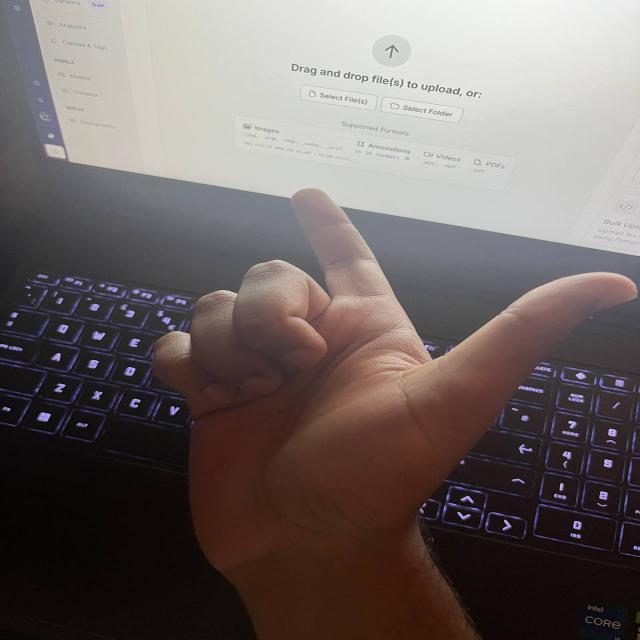hand thumb and index out: (155, 188, 632, 548)
